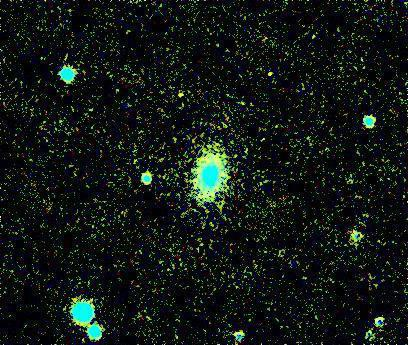star: (164, 75, 194, 105)
